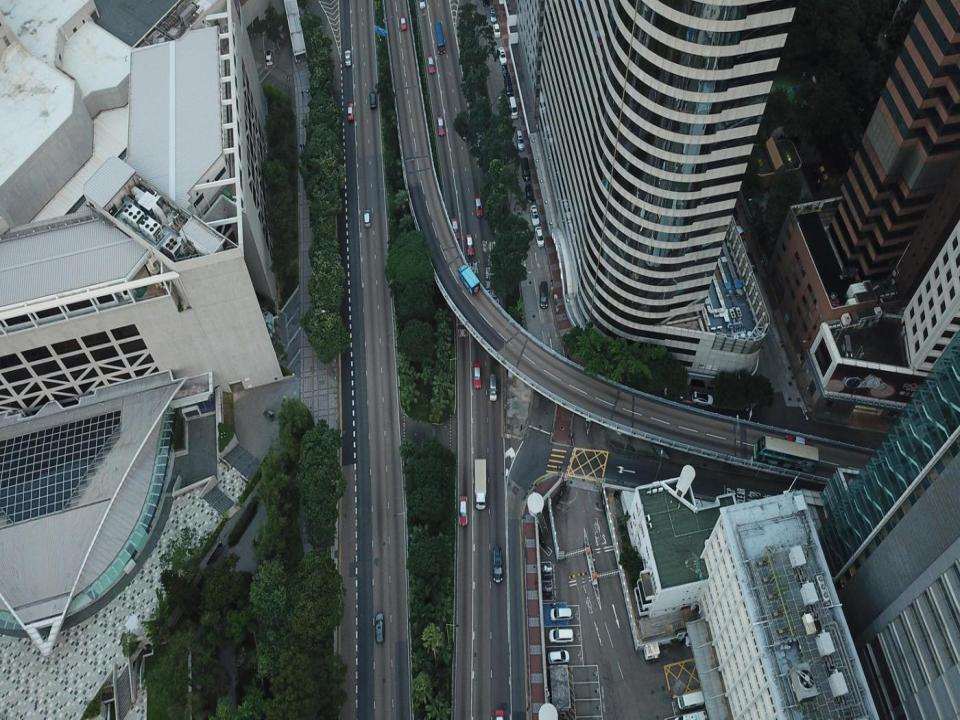bus: (752, 435, 819, 472), (434, 19, 446, 54)
car: (458, 494, 469, 528), (691, 389, 714, 405), (785, 434, 811, 448), (548, 649, 570, 663), (376, 611, 384, 644), (524, 182, 535, 206), (450, 216, 459, 245), (529, 203, 539, 226), (515, 129, 525, 152), (474, 194, 483, 219), (745, 250, 756, 270), (735, 223, 747, 241), (466, 231, 474, 257), (474, 362, 482, 388), (536, 224, 544, 248), (264, 48, 274, 67), (497, 45, 506, 65), (368, 88, 376, 110), (363, 208, 371, 228), (730, 200, 738, 220), (437, 115, 444, 136), (344, 49, 352, 67), (427, 55, 434, 75), (489, 5, 496, 25), (347, 102, 353, 122), (493, 22, 500, 38), (494, 708, 504, 719), (400, 16, 406, 32), (502, 65, 509, 77), (482, 0, 491, 7), (419, 0, 425, 9)
truck: (457, 263, 480, 296), (475, 458, 486, 510)
van: (678, 691, 704, 709), (547, 628, 575, 642), (493, 546, 503, 583), (664, 711, 707, 719), (549, 607, 573, 620), (520, 156, 531, 182), (488, 372, 497, 402), (508, 96, 519, 120), (503, 73, 514, 97), (540, 280, 548, 308)
